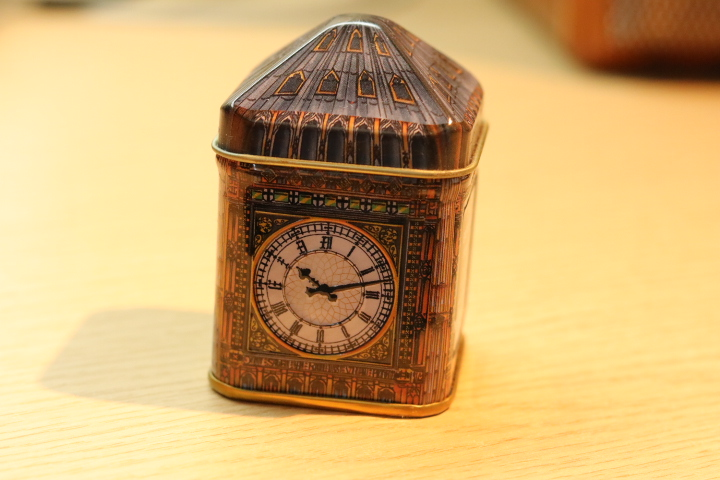Big Ben: (198, 8, 511, 433)
